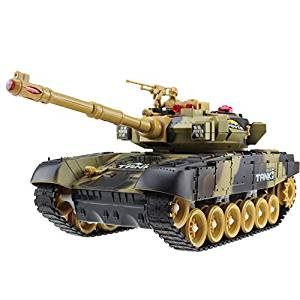Battle Tank: (5, 72, 300, 250)
